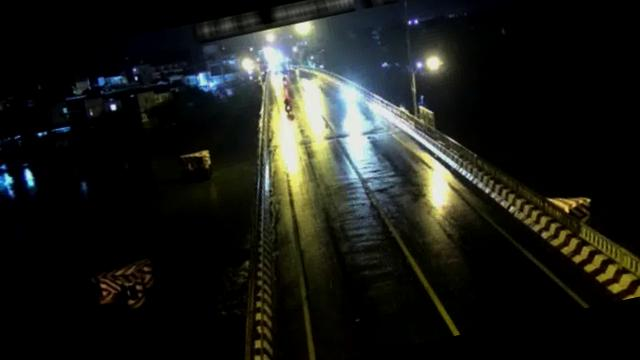Bike: (281, 97, 294, 113)
